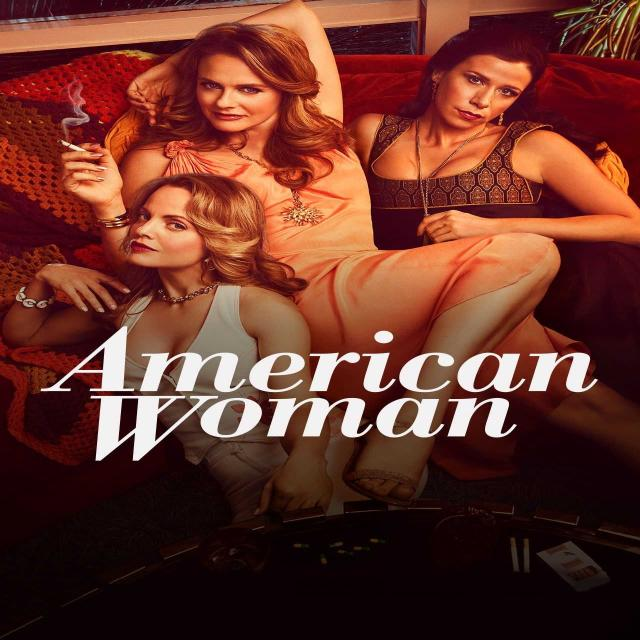Smooking: (48, 132, 93, 160)
